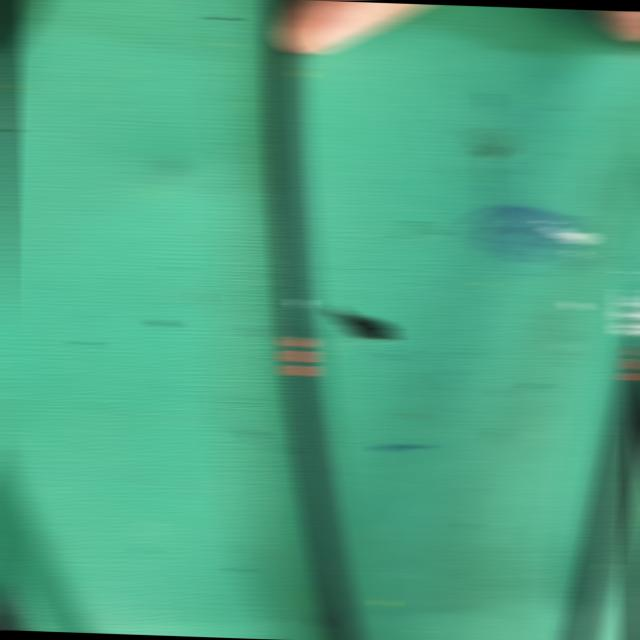red: (279, 337, 316, 378)
